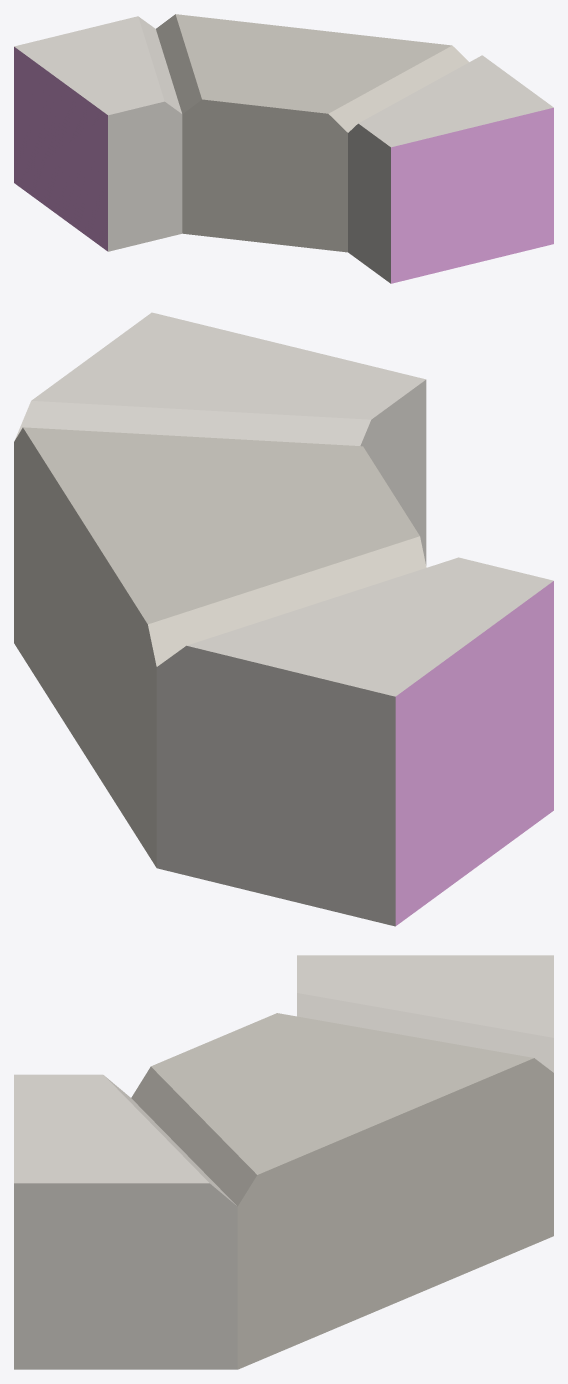
File: Path_Edging_Stones_Curve_1x1.glb
3 views of the same model, one above another, from view 1: azimuth 30°, elevation 25°; view 2: azimuth 150°, elevation 25°; view 3: azimuth 270°, elevation 25° (orthographic). The views are drawn at different scales.
Visible parts, largest first — view 1: Path_Edging_Stones_Curve_1x1; view 2: Path_Edging_Stones_Curve_1x1; view 3: Path_Edging_Stones_Curve_1x1.
Boxes of the visible parts, box(x1,y1,x2,y2) form: Path_Edging_Stones_Curve_1x1: box(14, 14, 553, 283); Path_Edging_Stones_Curve_1x1: box(14, 312, 553, 926); Path_Edging_Stones_Curve_1x1: box(14, 955, 553, 1369).
Bounding box in the file's own units: 65.62 × 25 × 65.63.
